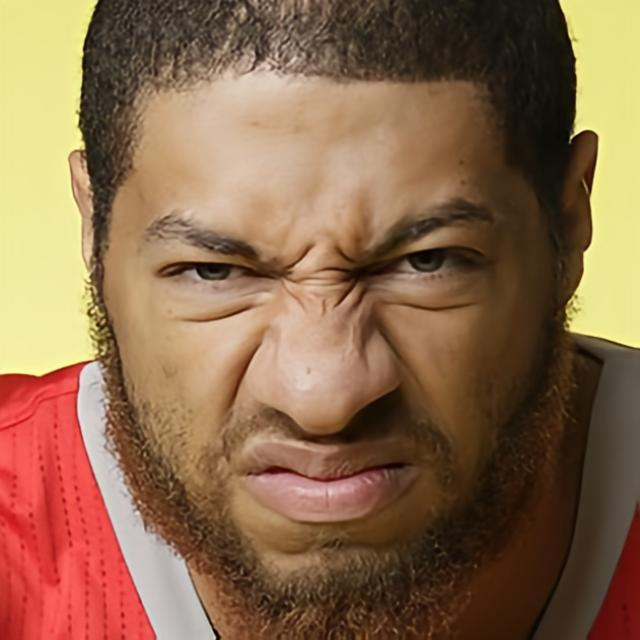disgust: (110, 37, 559, 608)
